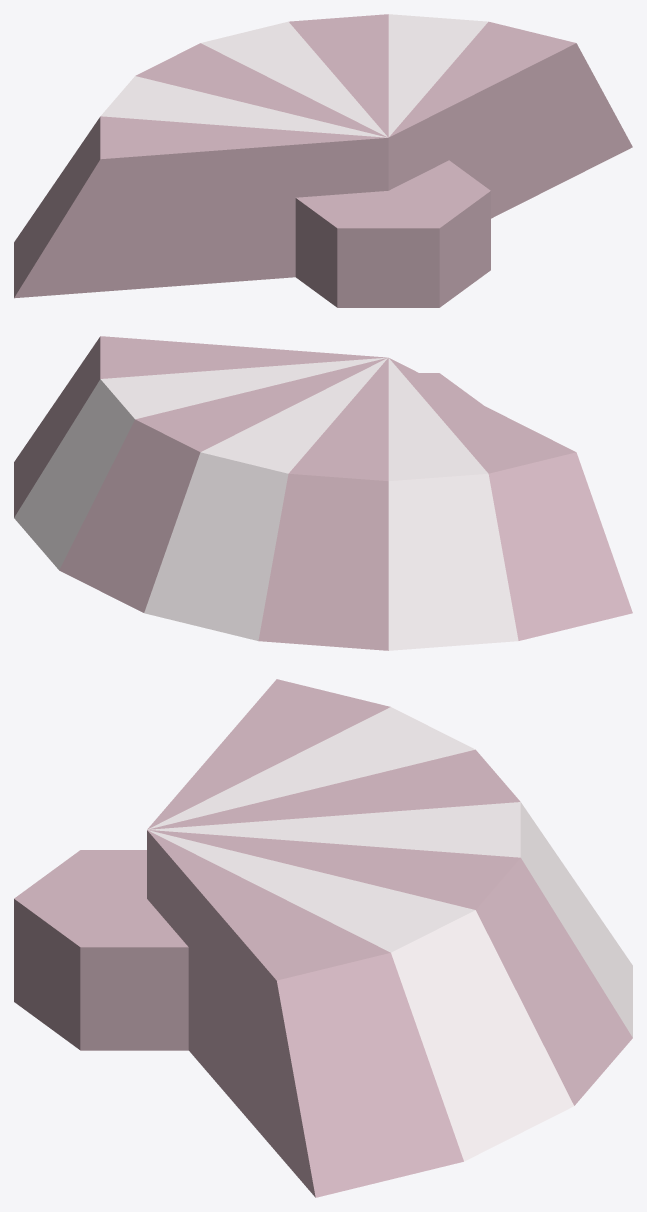
File: CF_Shell.fbx
3 renders of one model, top to bottom at view 1: azimuth 30°, elevation 25°; view 2: azimuth 150°, elevation 25°; view 3: azimuth 270°, elevation 25°, orthographic. The views are drawn at different scales.
Parts seen in each view (by area): view 1: CF_Shell_Shell, CF_Shell_Ridge; view 2: CF_Shell_Shell, CF_Shell_Ridge; view 3: CF_Shell_Shell, CF_Shell_Ridge.
Part boxes in pixels (x1,y1,x2,y2): CF_Shell_Shell: (14, 14, 632, 307); CF_Shell_Ridge: (101, 14, 487, 137); CF_Shell_Shell: (14, 336, 632, 650); CF_Shell_Ridge: (14, 357, 518, 650); CF_Shell_Shell: (14, 679, 632, 1197); CF_Shell_Ridge: (147, 707, 632, 1161).
Bounding box in the file's own units: 4.89 × 1 × 3.26.
